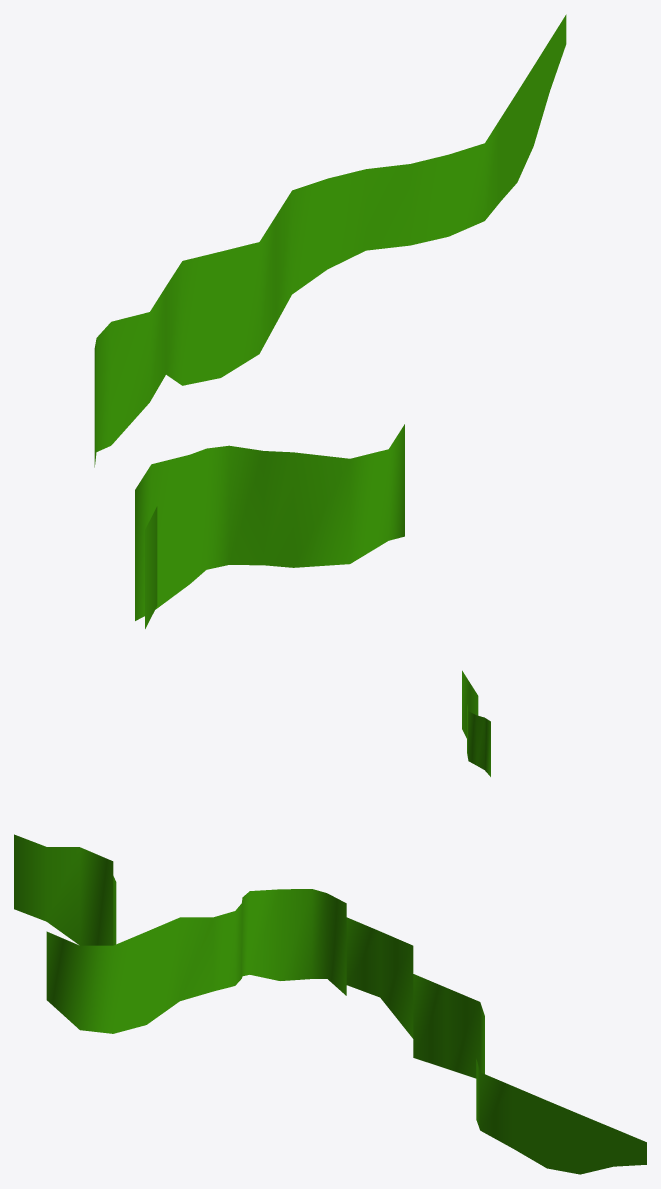
Rendered from M4_InvisPolly2.glb.
3 views of the same model, one above another, from view 1: azimuth 30°, elevation 25°; view 2: azimuth 150°, elevation 25°; view 3: azimuth 270°, elevation 25° (orthographic). The views are drawn at different scales.
Visible parts, largest first — view 1: M4_INVISPOLLY2; view 2: M4_INVISPOLLY2; view 3: M4_INVISPOLLY2.
Part boxes in pixels (x1,y1,x2,y2): M4_INVISPOLLY2: [94, 14, 566, 628]; M4_INVISPOLLY2: [462, 670, 490, 776]; M4_INVISPOLLY2: [14, 834, 646, 1174].
Size of the model in its own units: 87.54 by 14.86 by 75.9.
